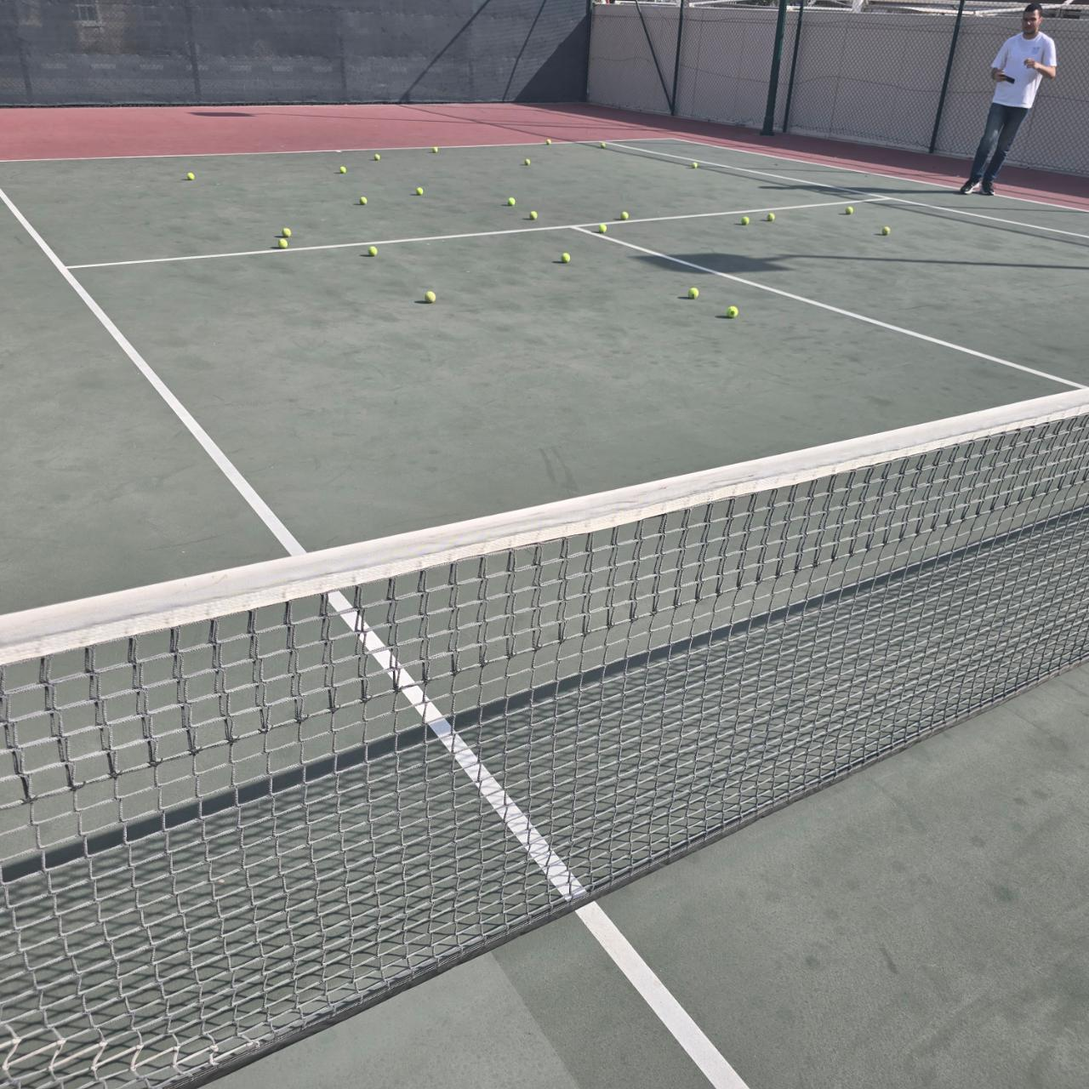tennis-ball: (726, 305, 738, 318), (686, 287, 699, 299), (424, 291, 437, 303), (366, 246, 379, 256), (560, 252, 570, 263), (278, 238, 288, 249), (281, 227, 291, 238), (529, 210, 538, 220), (620, 211, 629, 221), (881, 226, 891, 235), (359, 196, 368, 205), (507, 197, 516, 206), (740, 216, 749, 225), (845, 206, 854, 215), (187, 172, 195, 181), (599, 224, 607, 233), (767, 212, 775, 221), (416, 187, 424, 195), (339, 166, 346, 174), (374, 153, 381, 161), (524, 158, 531, 166), (432, 147, 439, 154), (691, 162, 698, 169), (546, 139, 552, 145), (600, 143, 606, 148)
